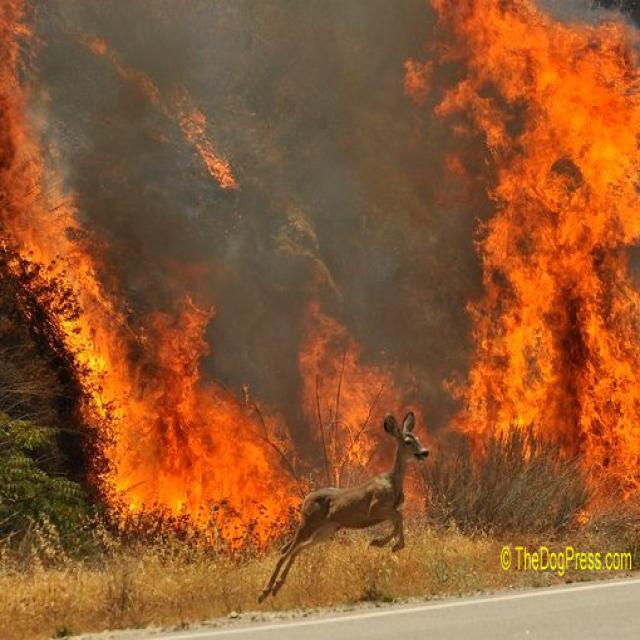Fire: (0, 52, 296, 520), (428, 3, 626, 491), (300, 274, 406, 474)
